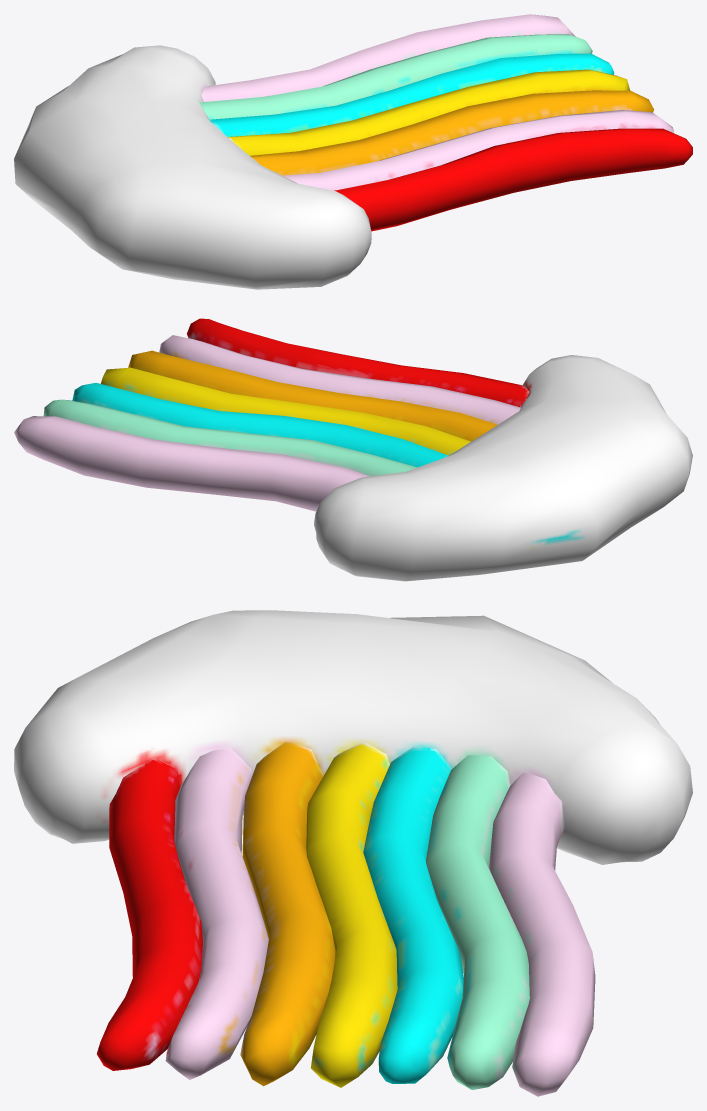
Rendered from Phao12.fbx.
3 views of the same model, one above another, from view 1: azimuth 30°, elevation 25°; view 2: azimuth 150°, elevation 25°; view 3: azimuth 270°, elevation 25° (orthographic). The views are drawn at different scales.
Visible parts, largest first — view 1: Retopo_Rainbow_low_Rainbow_0.001; view 2: Retopo_Rainbow_low_Rainbow_0.001; view 3: Retopo_Rainbow_low_Rainbow_0.001.
Part boxes in pixels (box(x1,y1,x2,y2)): Retopo_Rainbow_low_Rainbow_0.001: box(14, 14, 692, 289); Retopo_Rainbow_low_Rainbow_0.001: box(14, 318, 692, 581); Retopo_Rainbow_low_Rainbow_0.001: box(14, 610, 692, 1096).
Bounding box in the file's own units: 1.69 × 0.2907 × 1.2.
